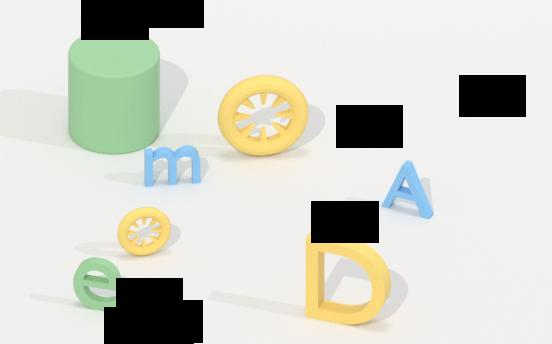A-hoa: (378, 156, 435, 219)
d: (300, 226, 394, 326)
e: (70, 255, 125, 317)
m: (142, 140, 203, 190)
tron: (217, 70, 312, 162), (117, 201, 173, 257)
tru: (61, 23, 163, 156)
